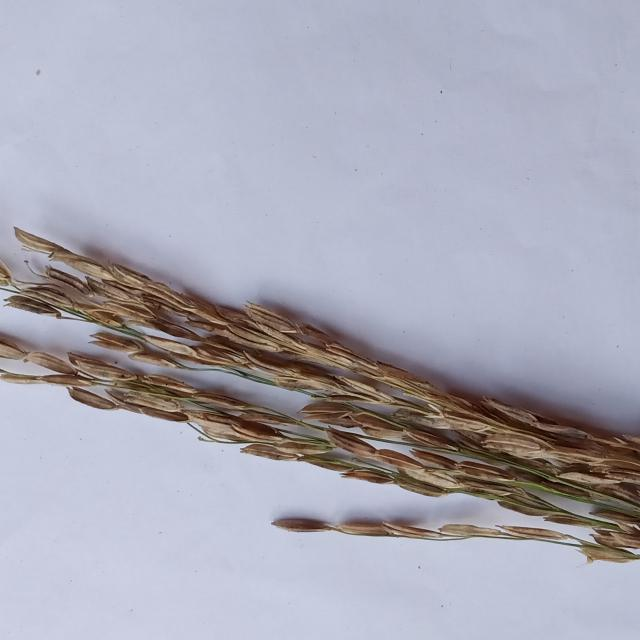Neck_Blast: (0, 224, 640, 507), (0, 323, 640, 562)
